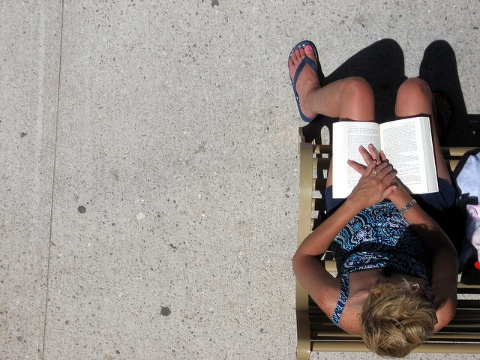hand: (360, 159, 397, 204)
